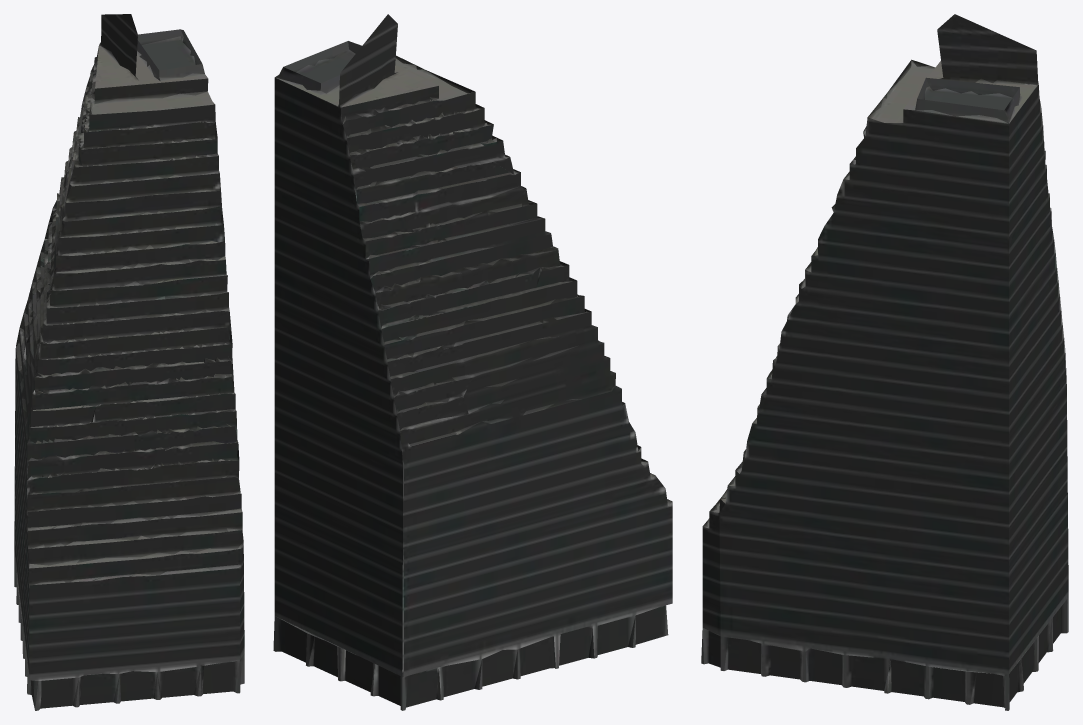
Rendered from t_-5_9.coat.glb.
3 views of the same model, side by side, from view 1: azimuth 30°, elevation 25°; view 2: azimuth 150°, elevation 25°; view 3: azimuth 270°, elevation 25° (orthographic). The views are drawn at different scales.
Parts seen in each view (by area): view 1: far; view 2: far; view 3: far.
Boxes of the visible parts, left/top/right/bottom form: far: left=14, top=14, right=244, bottom=710; far: left=273, top=14, right=672, bottom=710; far: left=701, top=14, right=1068, bottom=710.
Size of the model in its own units: 84.35 by 180 by 92.09.
Materials: 1 (1 with a texture image).
